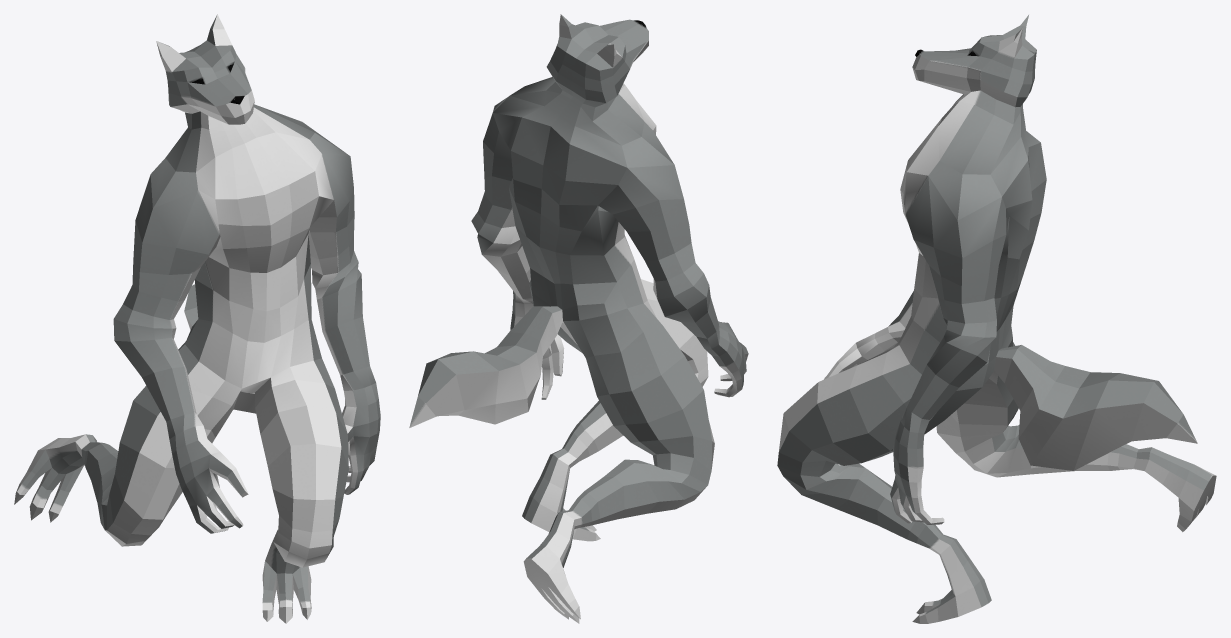
The model's file is WolfDead(22).obj.
3 renders of one model, left to right at view 1: azimuth 30°, elevation 25°; view 2: azimuth 150°, elevation 25°; view 3: azimuth 270°, elevation 25°, orthographic. The views are drawn at different scales.
Visible parts, largest first — view 1: Box001; view 2: Box001; view 3: Box001.
Part boxes in pixels (bbox=[...]): Box001: bbox=[14, 14, 380, 623]; Box001: bbox=[409, 14, 748, 623]; Box001: bbox=[777, 15, 1216, 623].
Size of the model in its own units: 60.38 by 136 by 93.4.
